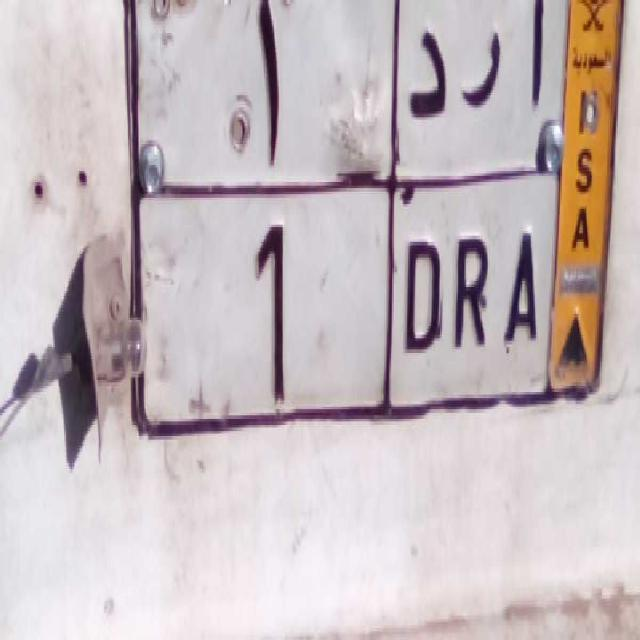license_plate: (142, 171, 558, 425)
